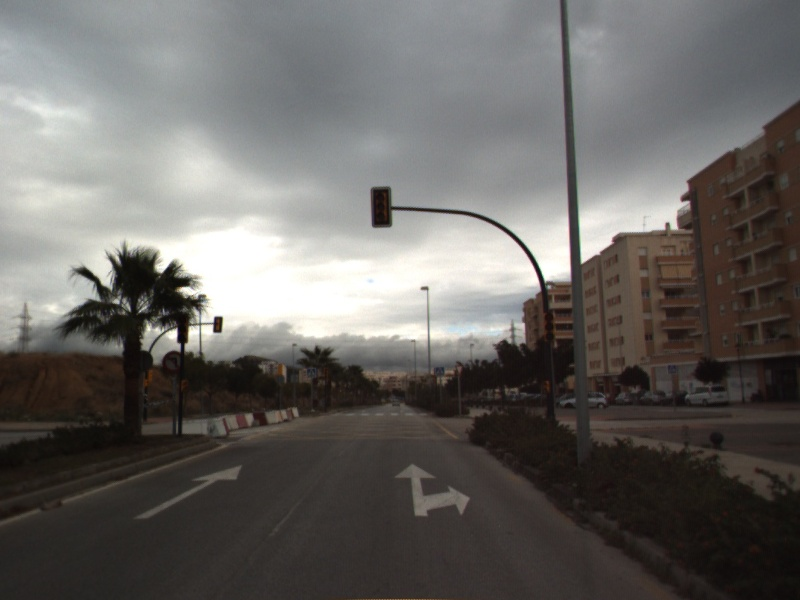STRAIGHT: (132, 463, 244, 521)
STRAIGHT_RIGHT: (393, 462, 472, 518)
